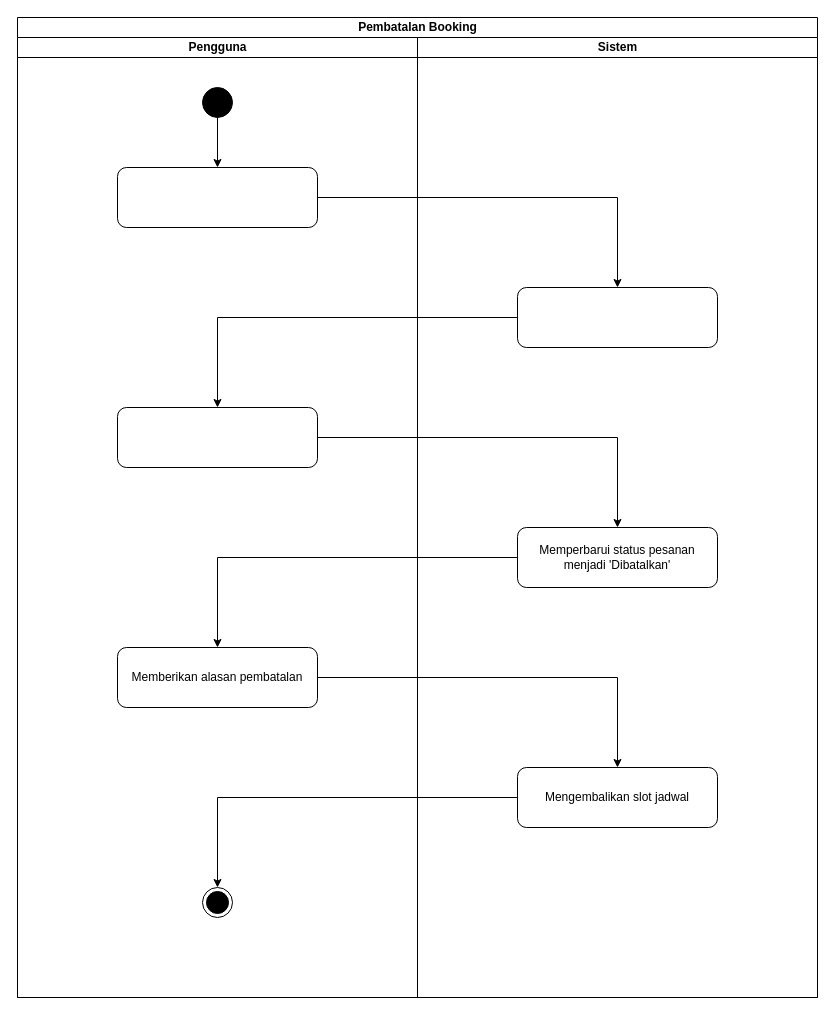
The diagram is 835 pixels wide and 1015 high, and some of its shapes have lost their labels. The centre of each missing label's shape, as x and y in pixels:
"Klik tombol batalkan pesanan" belongs at (x=217, y=437).
"Memilih pesanan" belongs at (x=217, y=197).
"Memvalidasi aturan pembatalan" belongs at (x=617, y=317).
